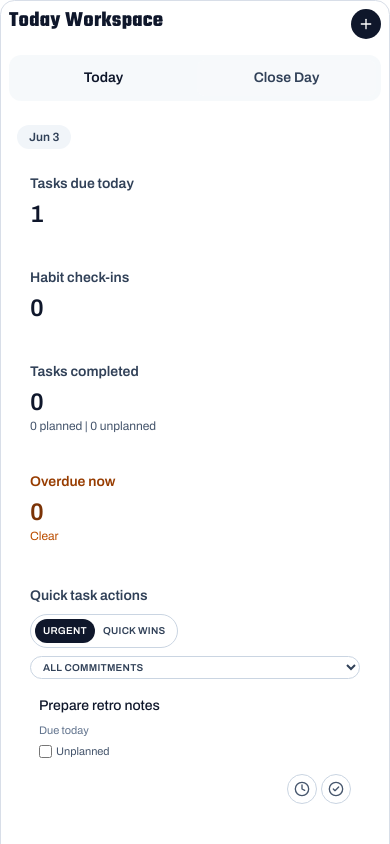
Test: dashboard insights command center › supports dashboard mode navigation and persists selected mode
Click the button "Close Day". click: click(286, 78)
box: [197,60,376,96]
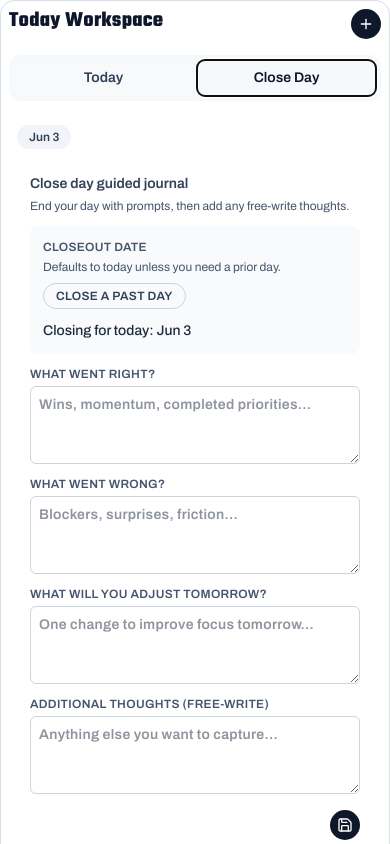
Now the text "Close day guided journal" is shown, box [30,174,188,194]
